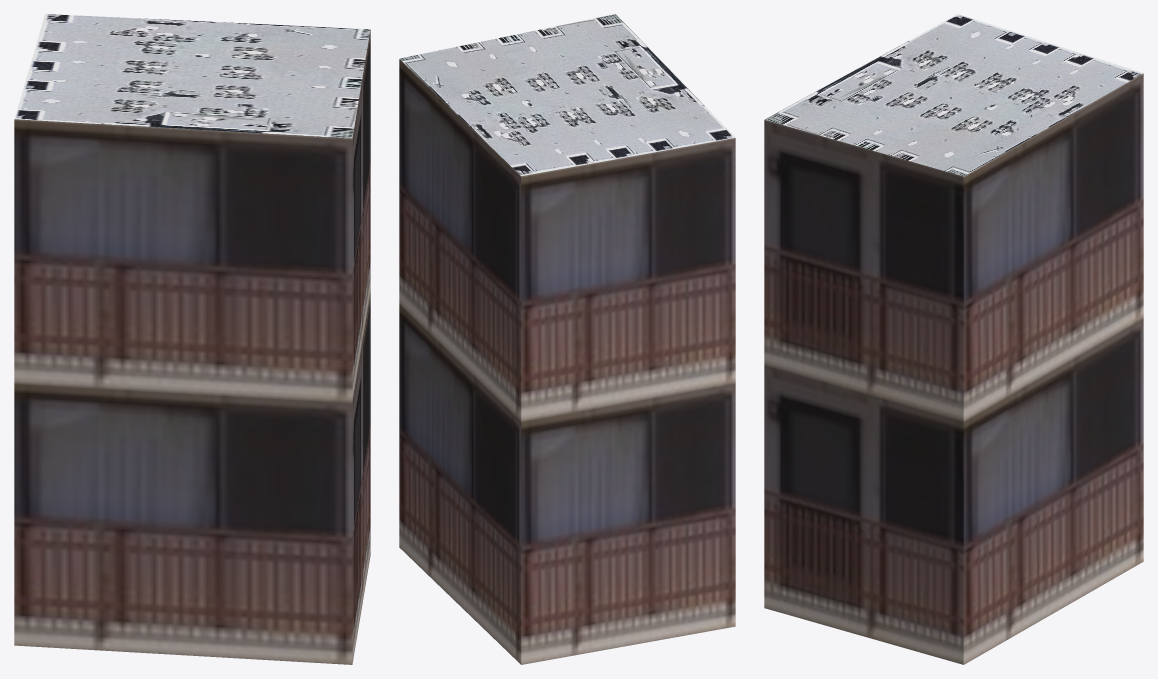
The model's file is ResTex__3652.fbx.
3 views of the same model, side by side, from view 1: azimuth 30°, elevation 25°; view 2: azimuth 150°, elevation 25°; view 3: azimuth 270°, elevation 25° (orthographic). The views are drawn at different scales.
Parts seen in each view (by area): view 1: CityEngineMaterial_6_m, CityEngineMaterial_4_m; view 2: CityEngineMaterial_6_m, CityEngineMaterial_4_m; view 3: CityEngineMaterial_6_m, CityEngineMaterial_4_m.
Part boxes in pixels (x1,y1,x2,y2): CityEngineMaterial_6_m: (14,30,370,664); CityEngineMaterial_4_m: (14,14,370,138); CityEngineMaterial_6_m: (399,59,735,664); CityEngineMaterial_4_m: (399,14,735,176); CityEngineMaterial_6_m: (764,73,1143,664); CityEngineMaterial_4_m: (764,14,1143,176).
Size of the model in its own units: 4.29 by 6 by 4.23.
Materials: 2 (2 with a texture image).
